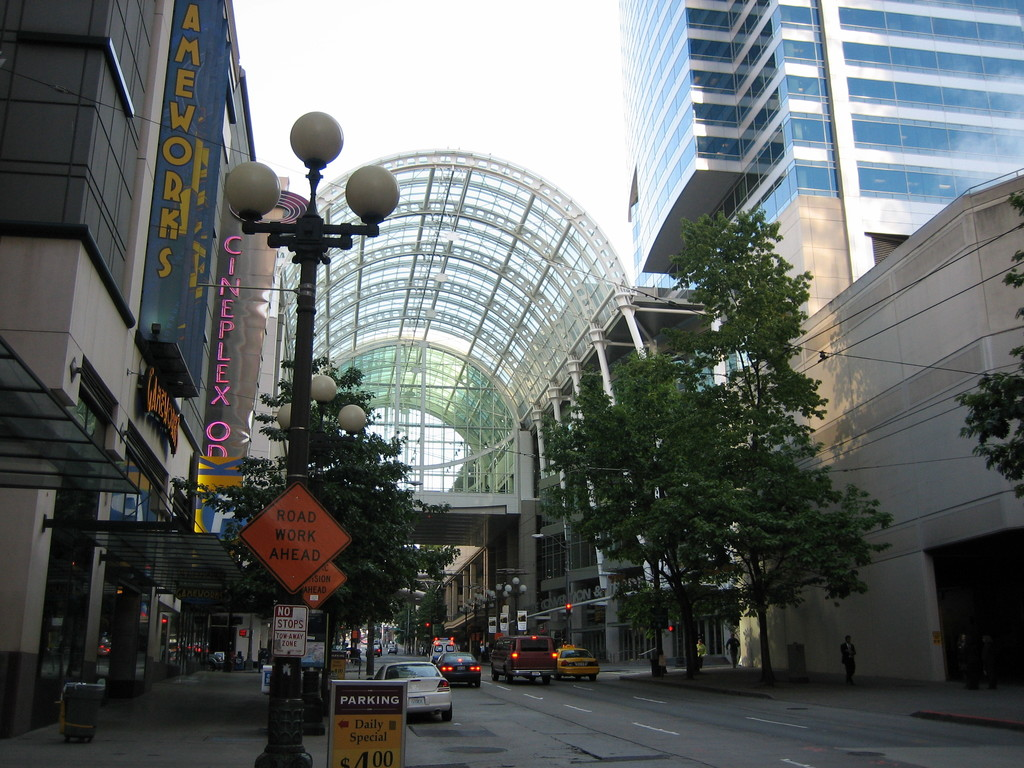Car: (366, 663, 454, 721), (435, 654, 482, 689)
